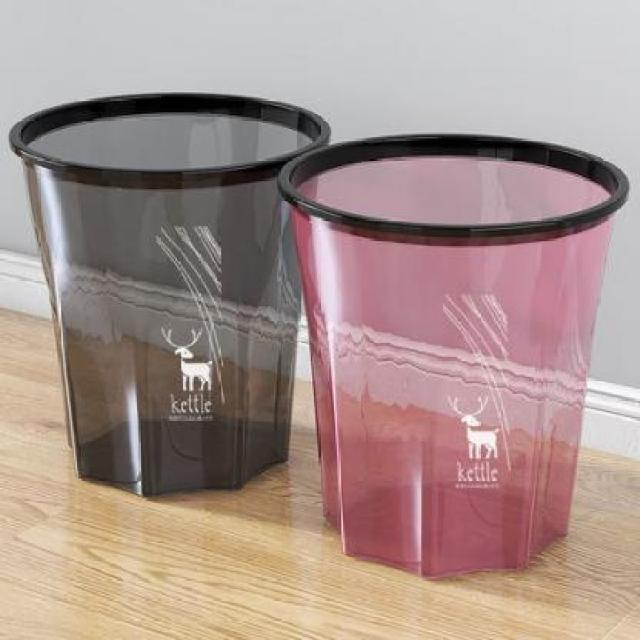dustbin: (275, 128, 634, 585), (4, 87, 334, 506)
